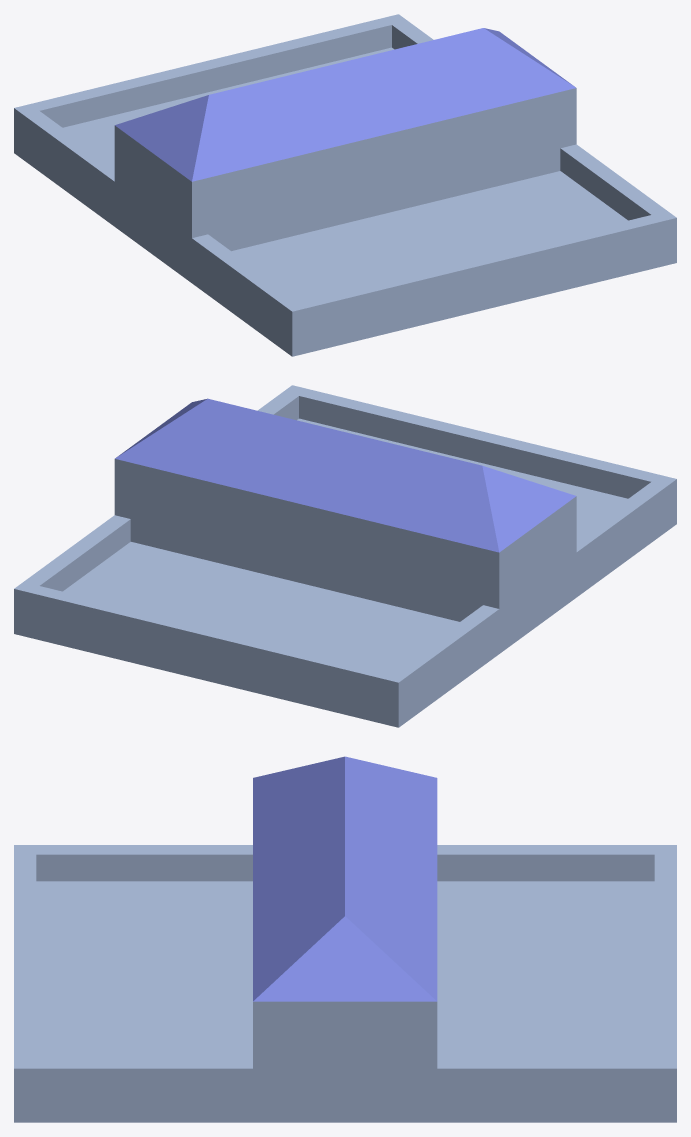
File: B_Filter.glb
3 renders of one model, top to bottom at view 1: azimuth 30°, elevation 25°; view 2: azimuth 150°, elevation 25°; view 3: azimuth 270°, elevation 25°, orthographic. The views are drawn at different scales.
Parts seen in each view (by area): view 1: Floor1; view 2: Floor1; view 3: Floor1.
Boxes of the visible parts, x1=… form: Floor1: x1=14, y1=14, x2=676, y2=356; Floor1: x1=14, y1=385, x2=676, y2=727; Floor1: x1=14, y1=756, x2=676, y2=1122.
Size of the model in its own units: 35.68 by 13 by 44.71.
